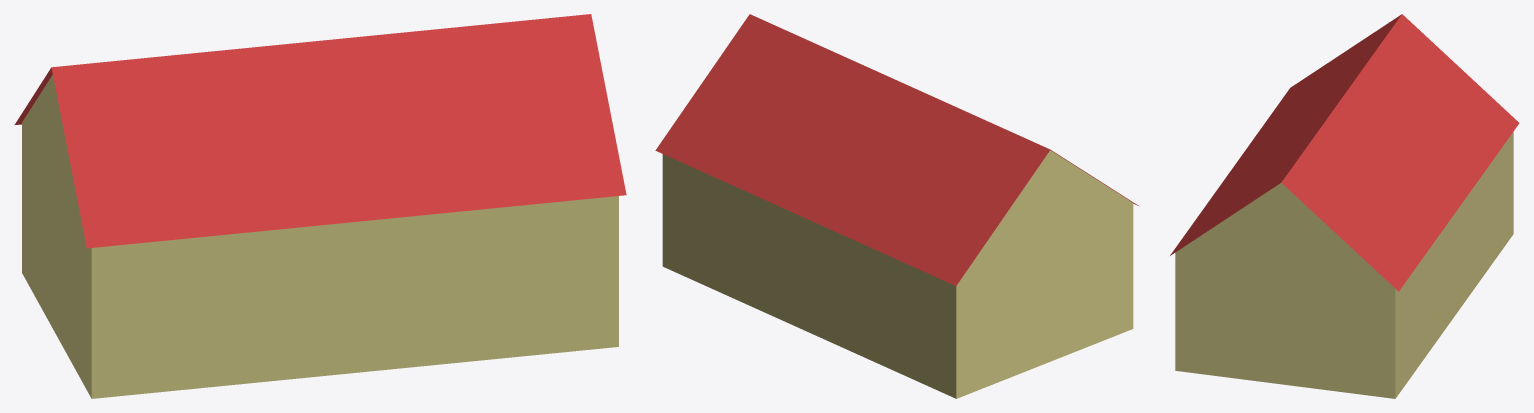
3 views of the same model, side by side, from view 1: azimuth 30°, elevation 25°; view 2: azimuth 150°, elevation 25°; view 3: azimuth 270°, elevation 25° (orthographic). The views are drawn at different scales.
Size of the model in its own units: 23.97 by 17.92 by 11.51.
